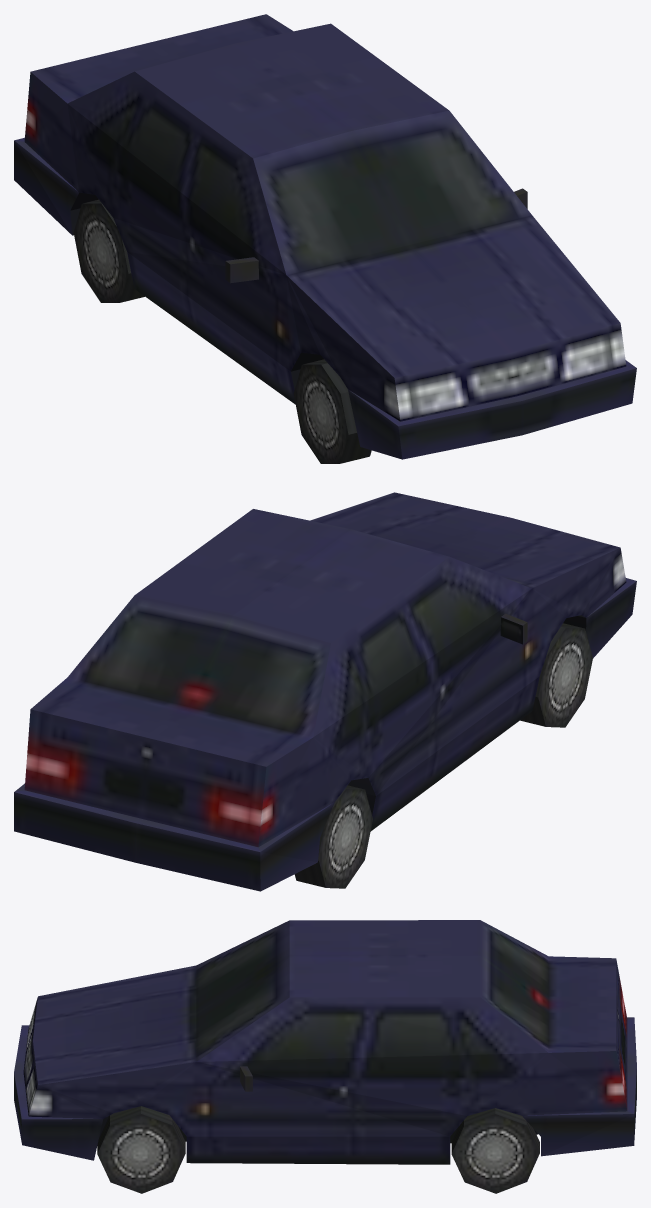
The model's file is car.glb.
3 views of the same model, one above another, from view 1: azimuth 30°, elevation 25°; view 2: azimuth 150°, elevation 25°; view 3: azimuth 270°, elevation 25° (orthographic). The views are drawn at different scales.
Parts seen in each view (by area): view 1: Car2; view 2: Car2; view 3: Car2.
Part boxes in pixels (x1,y1,x2,y2): Car2: [14, 14, 636, 463]; Car2: [14, 492, 636, 891]; Car2: [14, 920, 636, 1193].
Size of the model in its own units: 2.9 by 2.2 by 6.53.
Materials: 1 (1 with a texture image).
